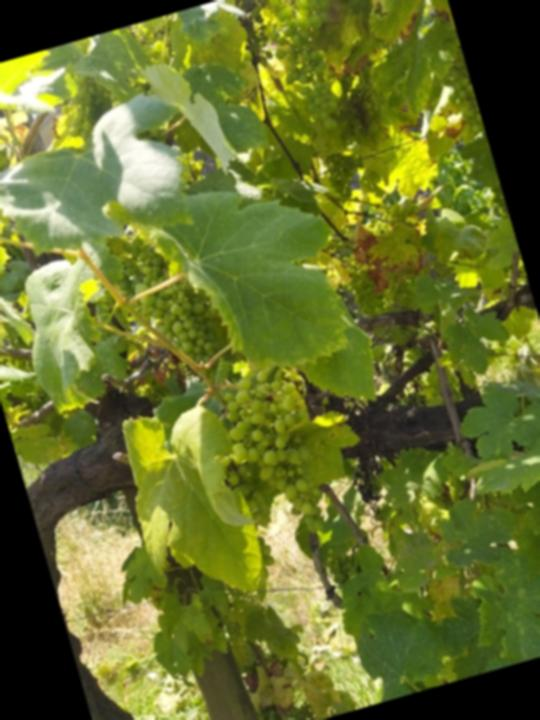grape: (210, 358, 343, 554), (103, 218, 233, 390)
